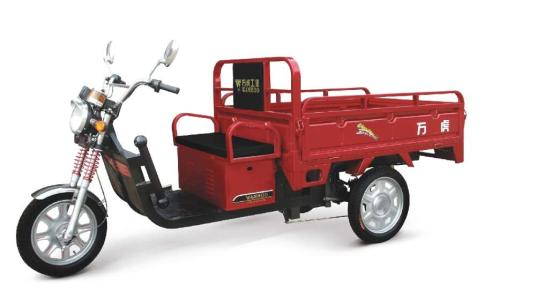tricycle: (39, 48, 467, 274)
